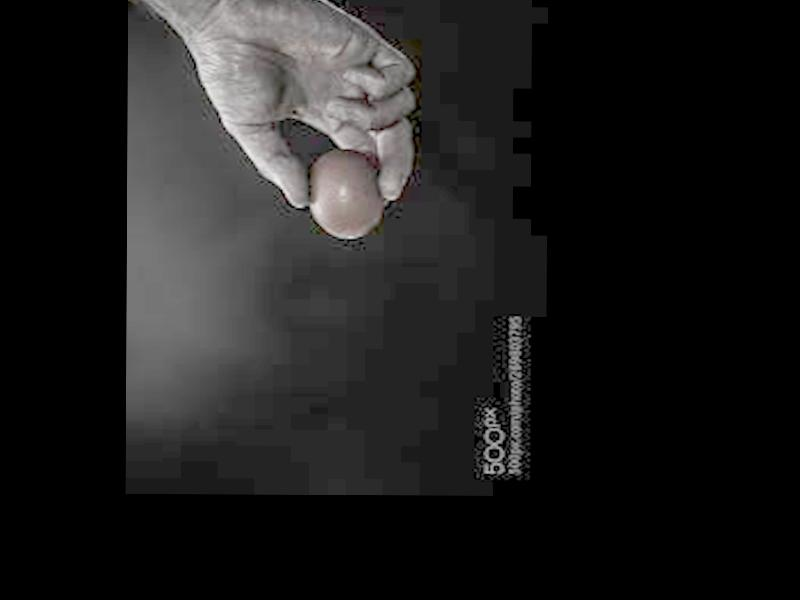Eggs: (306, 146, 382, 238)
